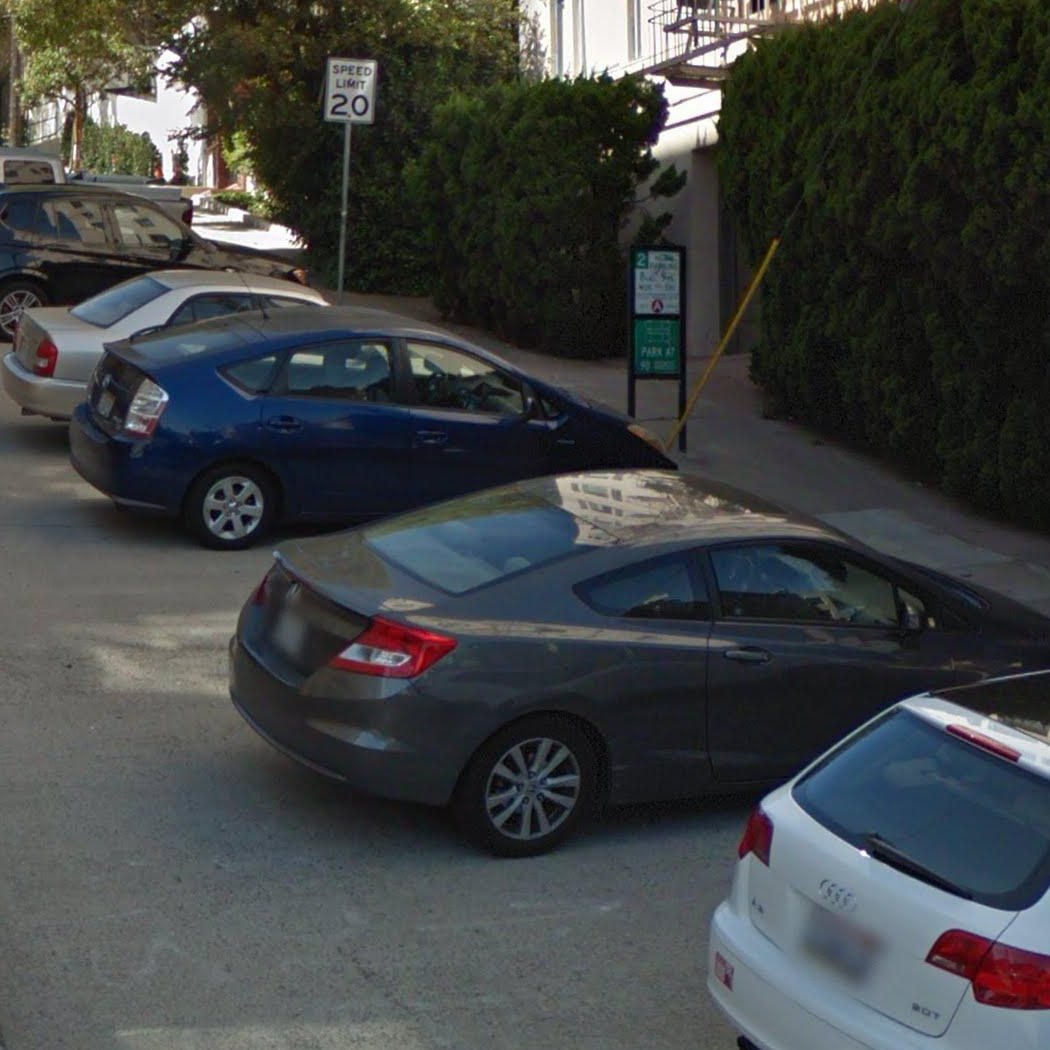2 Hour Parking: (631, 247, 681, 315)
